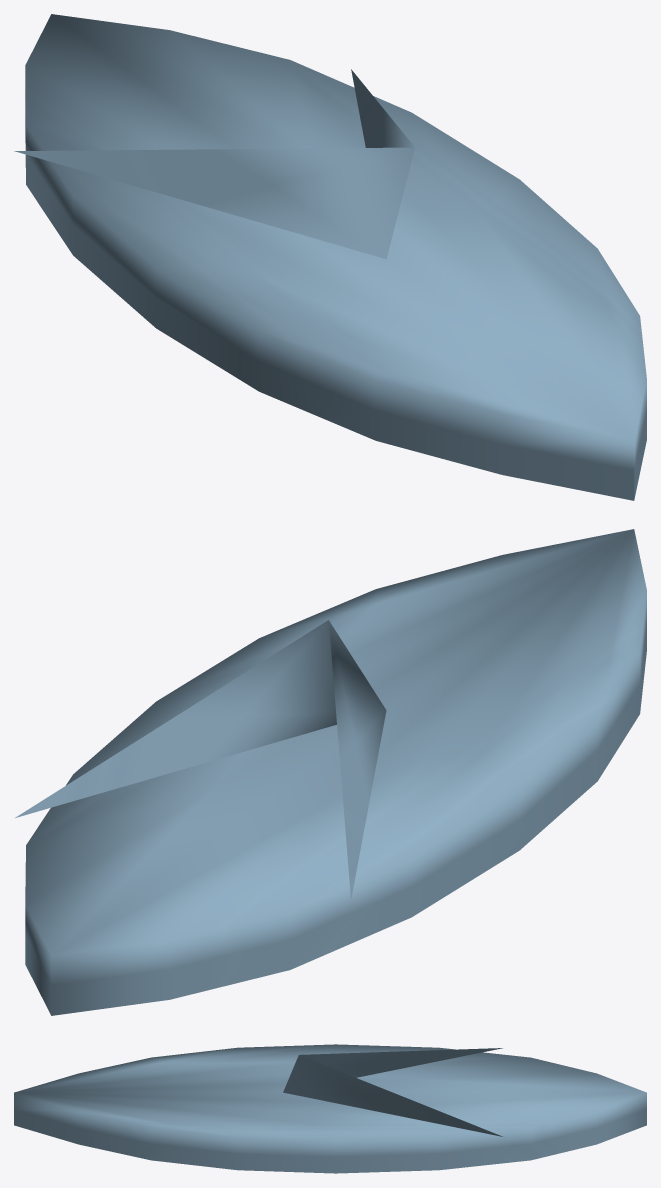
The model's file is Dep_Nhim_Gia.glb.
The picture shows the model from 3 angles, top to bottom: view 1: azimuth 30°, elevation 25°; view 2: azimuth 150°, elevation 25°; view 3: azimuth 270°, elevation 25°; orthographic projection. The views are drawn at different scales.
Visible parts, largest first — view 1: geometry_0; view 2: geometry_0; view 3: geometry_0.
Part boxes in pixels (x1,y1,x2,y2): geometry_0: (14,14,646,500); geometry_0: (15,529,646,1015); geometry_0: (14,1044,646,1173).
Bounding box in the file's own units: 0.0504 × 0.02 × 0.14.
1 material, 1 textured.
